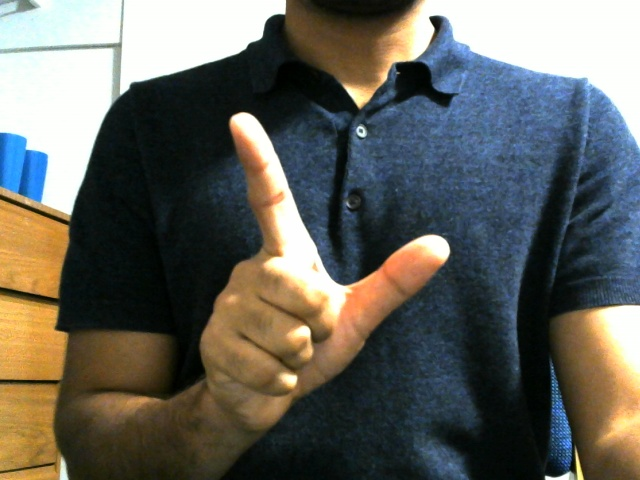L: (194, 108, 454, 420)
